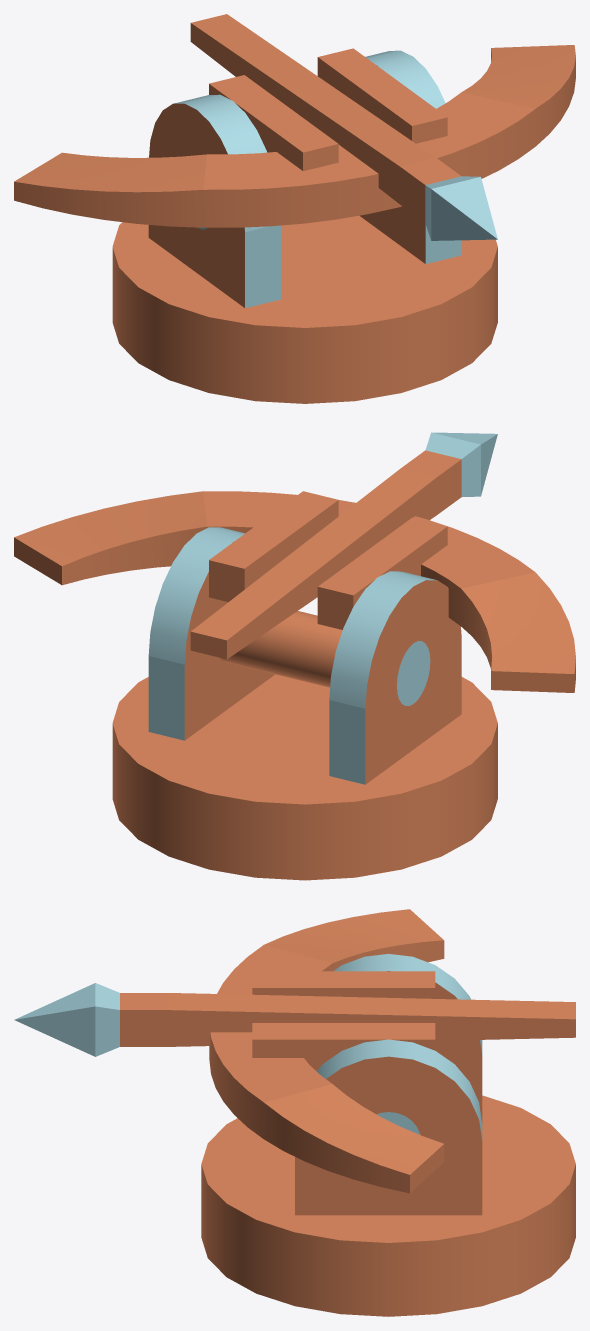
The model's file is weapon_ballista.fbx.
3 renders of one model, top to bottom at view 1: azimuth 30°, elevation 25°; view 2: azimuth 150°, elevation 25°; view 3: azimuth 270°, elevation 25°, orthographic. The views are drawn at different scales.
Visible parts, largest first — view 1: weapon_ballista, bow, arrow; view 2: weapon_ballista, bow, arrow; view 3: weapon_ballista, bow, arrow.
Boxes of the visible parts, left/top/right/bottom form: weapon_ballista: left=112, top=50, right=497, bottom=403; bow: left=14, top=45, right=575, bottom=227; arrow: left=190, top=14, right=497, bottom=240; weapon_ballista: left=112, top=527, right=497, bottom=880; bow: left=14, top=491, right=575, bottom=692; arrow: left=190, top=432, right=497, bottom=659; weapon_ballista: left=201, top=953, right=575, bottom=1316; bow: left=209, top=909, right=444, bottom=1193; arrow: left=14, top=983, right=575, bottom=1056.
Bounding box in the file's own units: 7.72 × 3.29 × 6.9.
